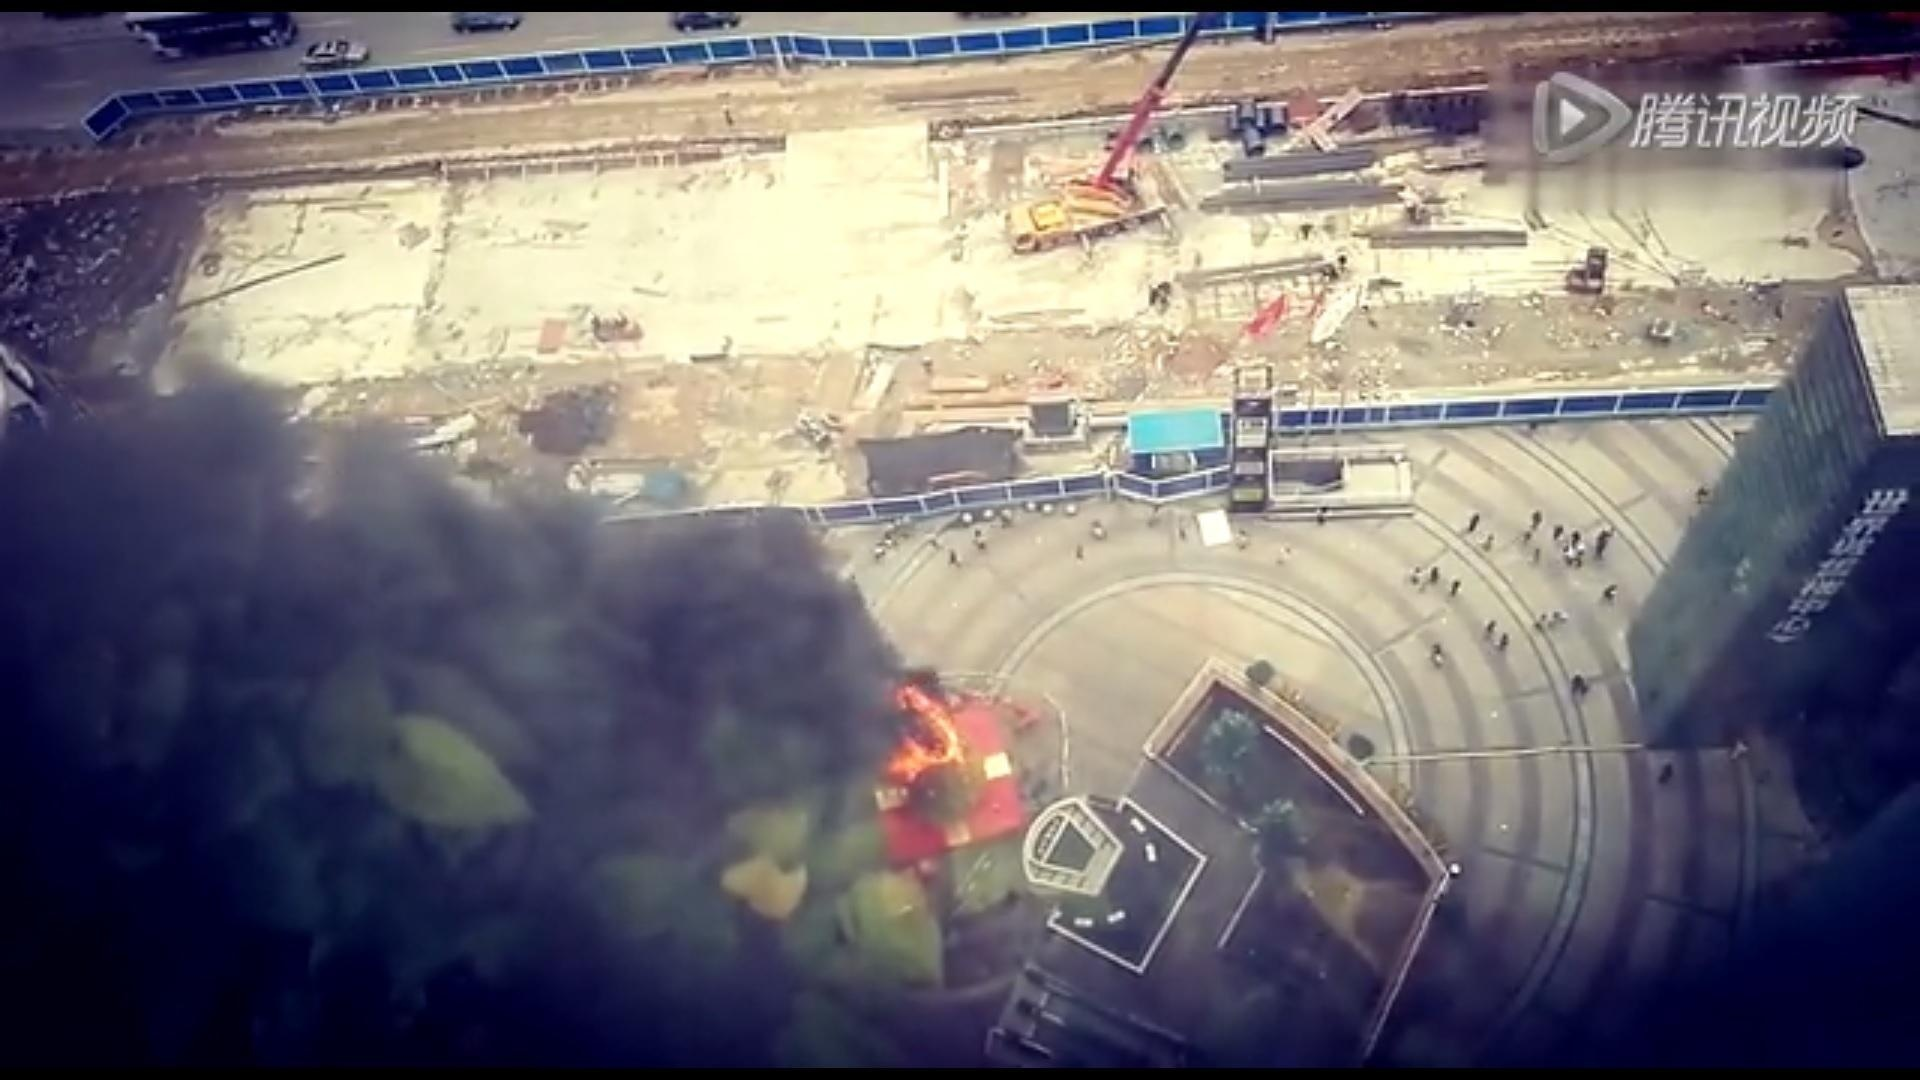fire: (886, 690, 965, 781)
